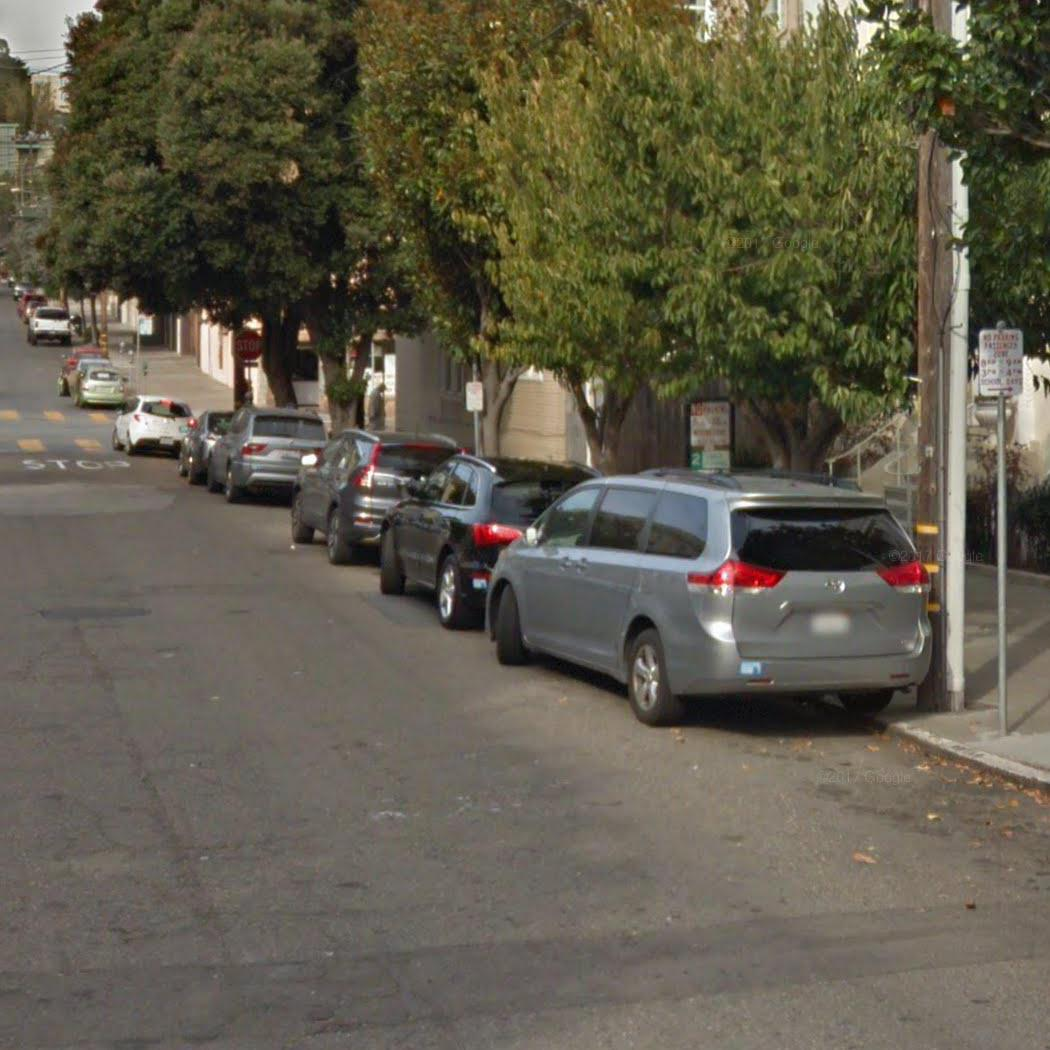2 Hour Parking: (688, 447, 731, 471)
No Parking: (689, 399, 729, 447)
